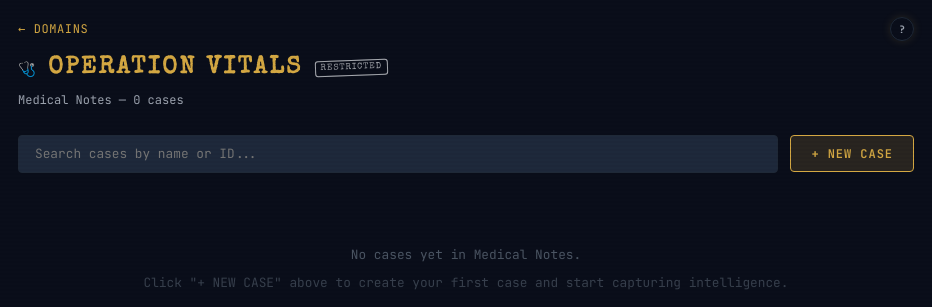
CaseList › shows create form
Expected: the text "No cases yet in Medical Notes." is shown, [351, 246, 581, 263]
Step 1. Click the button "+ NEW CASE" → (852, 154), box [790, 135, 914, 172]
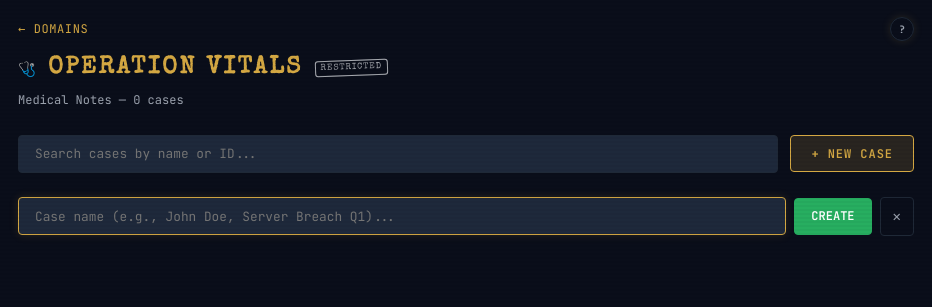
Result: the field with placeholder "Case name (e.g., John Doe, Server Breach Q1)..." is shown at [18, 197, 786, 236]
